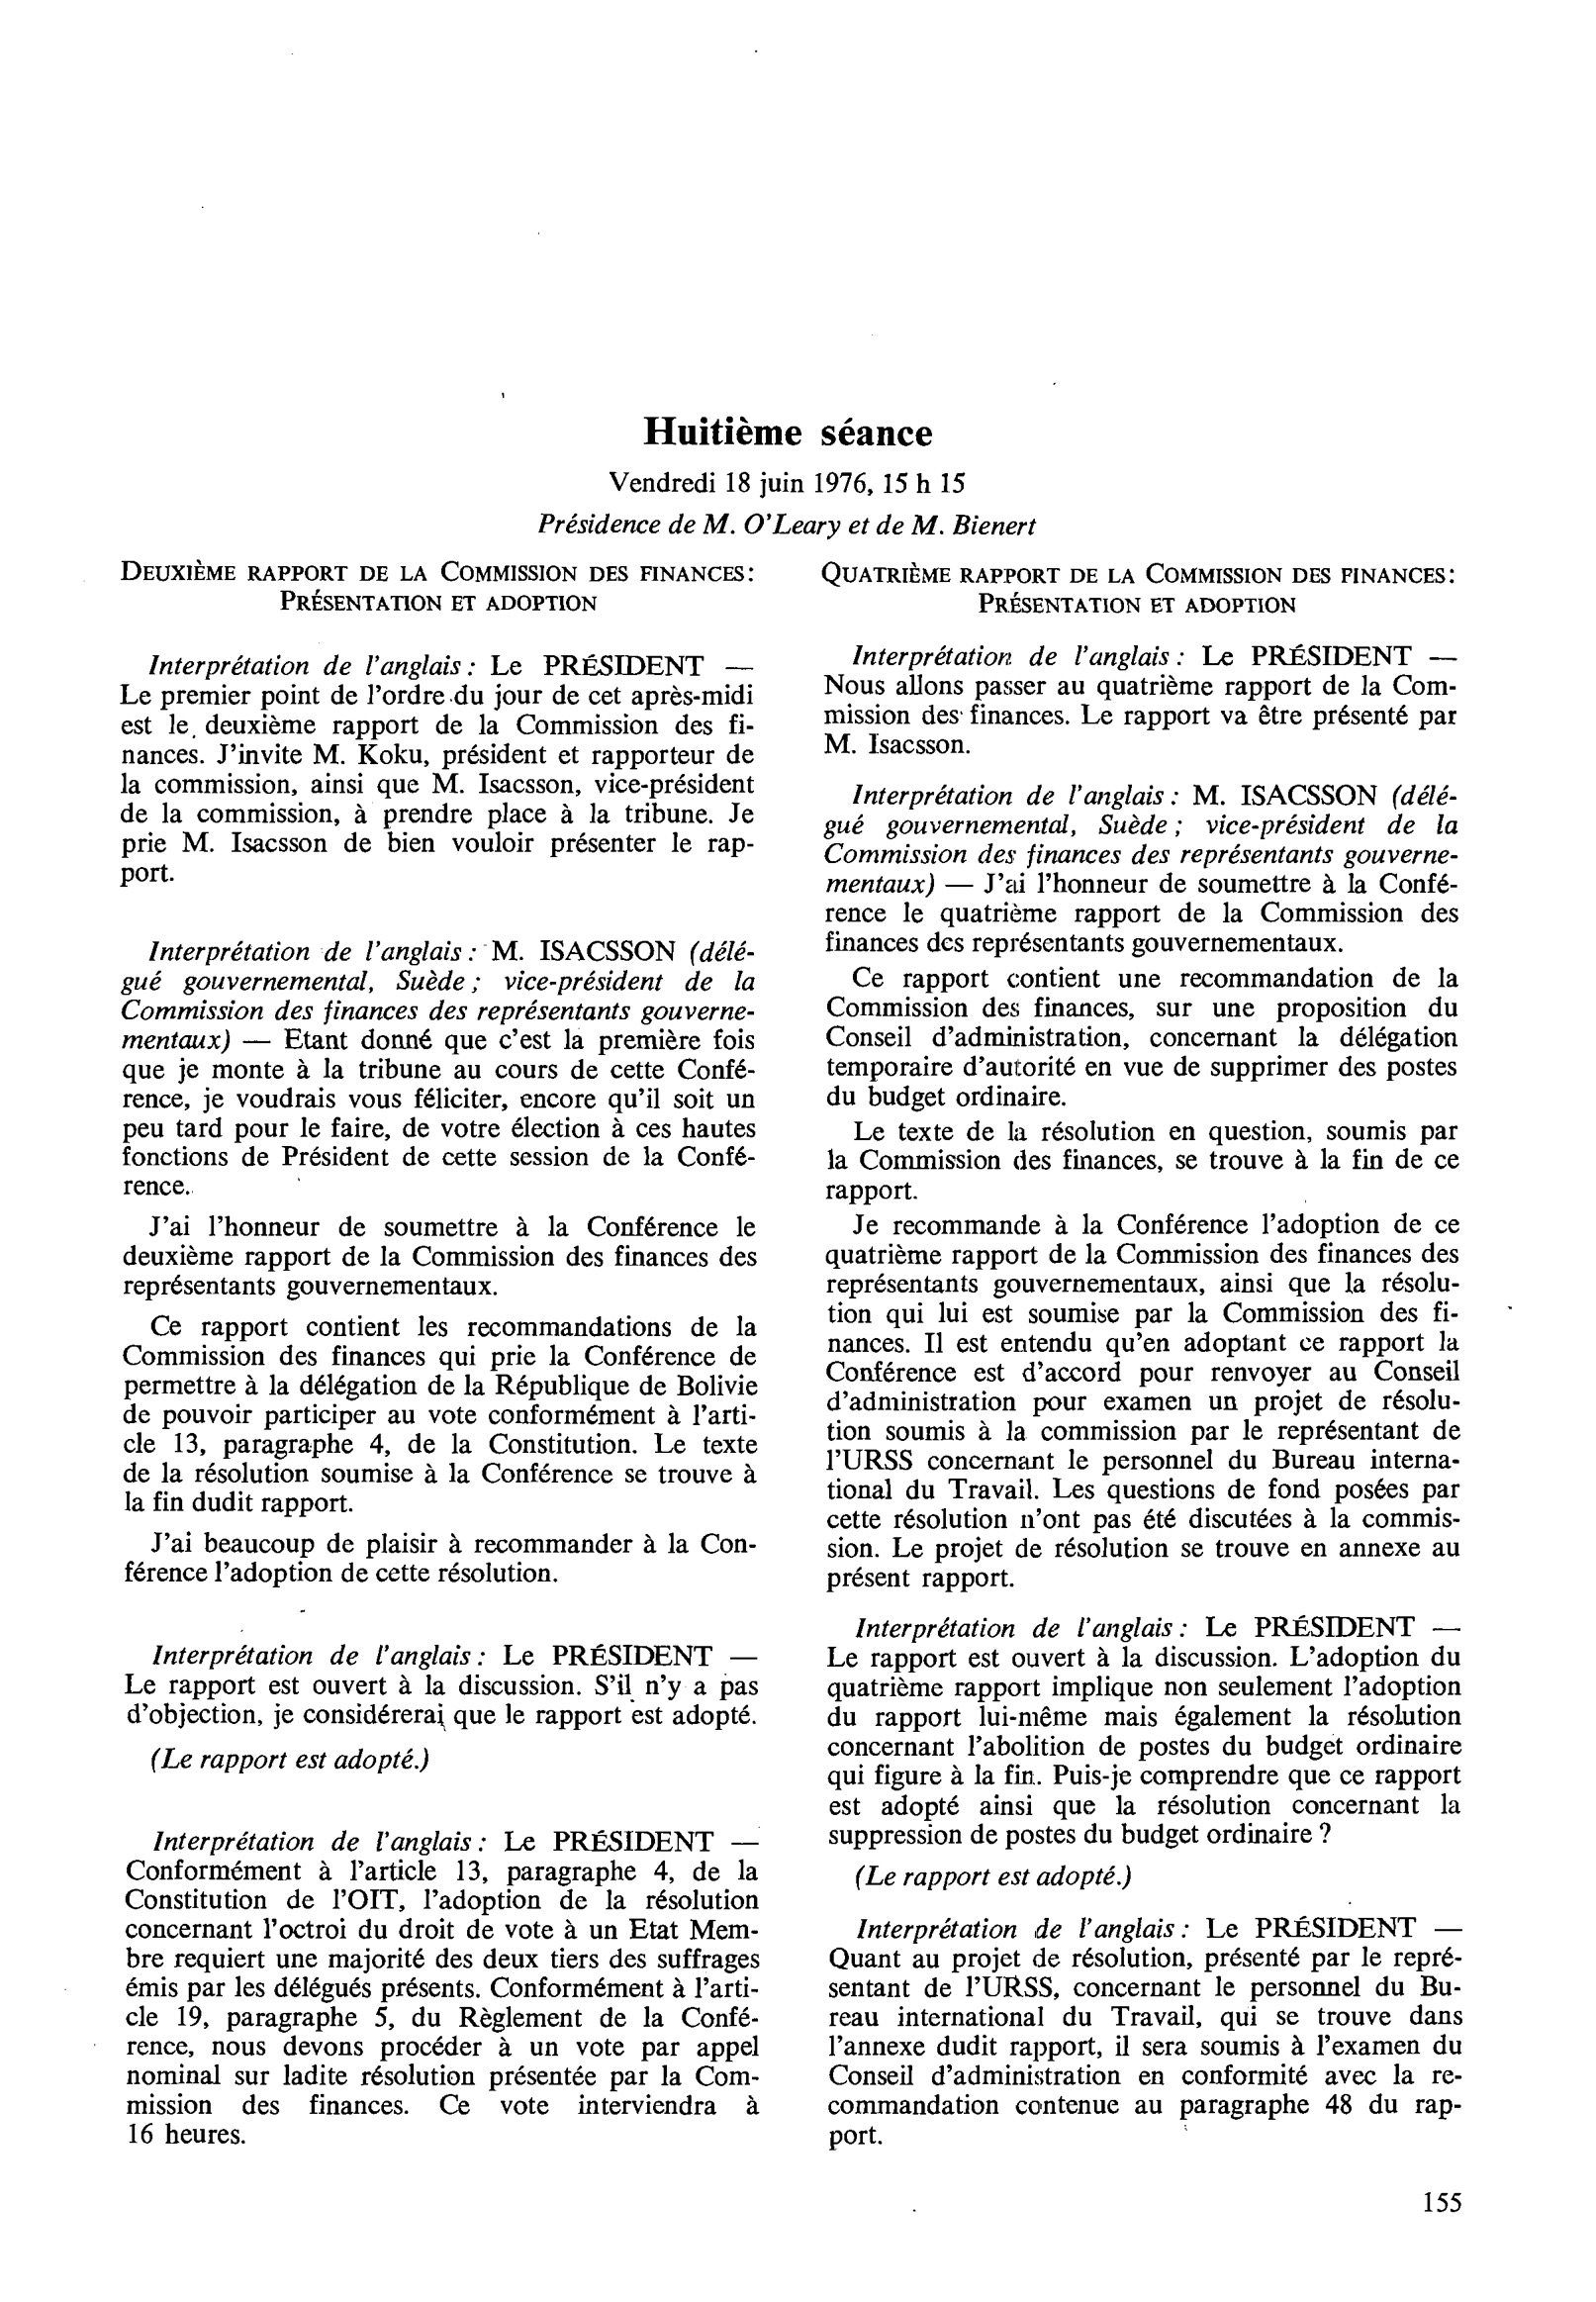MainZone-Head: (525, 401, 1052, 545), (112, 550, 766, 623), (811, 553, 1460, 623)
MainZone-P: (821, 1209, 1470, 1595), (114, 1820, 770, 2157), (115, 932, 766, 1203), (114, 648, 764, 895), (819, 1609, 1470, 1852), (823, 1912, 1470, 2156), (116, 1309, 766, 1518), (816, 777, 1467, 959), (819, 962, 1468, 1112), (815, 637, 1466, 764), (118, 1634, 767, 1735), (116, 1208, 766, 1303), (819, 1114, 1470, 1207), (115, 1525, 765, 1596), (132, 1740, 439, 1785), (840, 1856, 1145, 1897)
NumberingZone: (1416, 2181, 1471, 2224)
